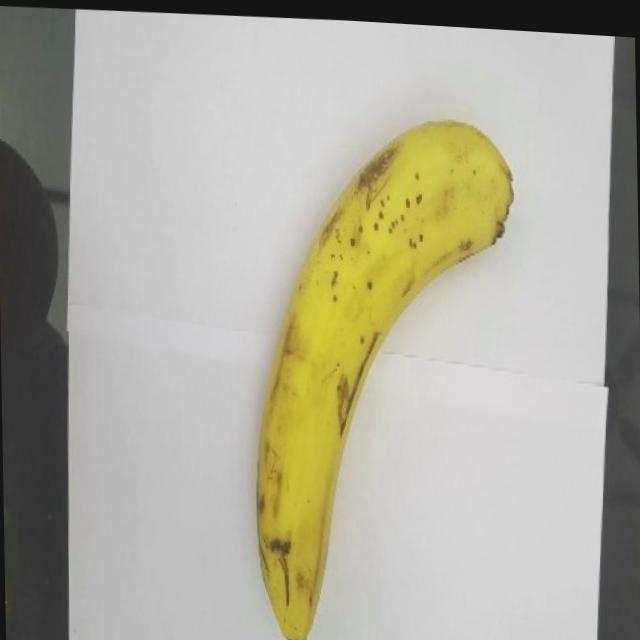Banana: (246, 101, 525, 640)
